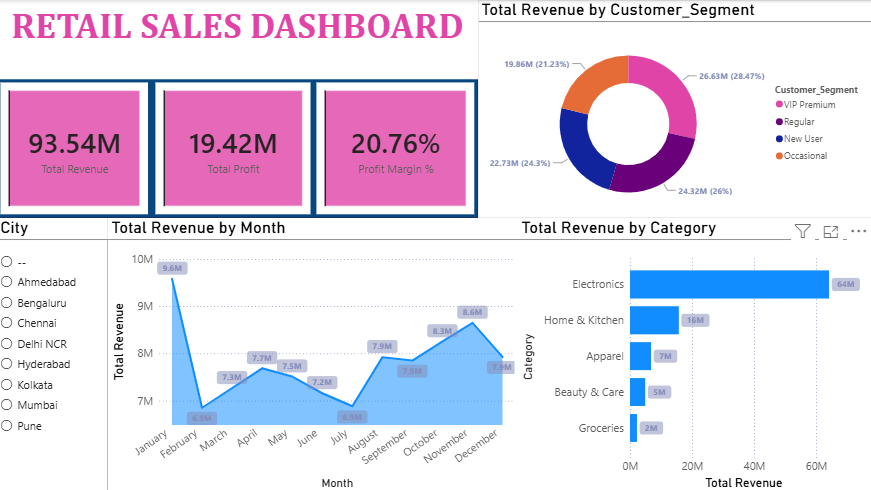

The page's visual inventory and layout, read from the dashboard file:
{"tool":"powerbi","page":{"name":"Page 1","canvas":[1280,720],"ordinal":0},"visuals":[{"type":"cardVisual","fields":{"Data":["Retail_Sales.Total Revenue"]},"box":[0,115.6,226.8,203.4],"z":0},{"type":"cardVisual","fields":{"Data":["Retail_Sales.Total Profit"]},"box":[226.8,115.6,237.1,203.4],"z":1},{"type":"cardVisual","fields":{"Data":["Retail_Sales.Profit Margin %"]},"box":[462.4,115.6,241.5,203.4],"z":2},{"type":"clusteredBarChart","fields":{"Y":["Retail_Sales.Total Revenue"],"Category":["Retail_Sales.Category"]},"box":[762.4,319,518,401],"z":4},{"type":"listSlicer","fields":{"Values":["Retail_Sales.City"]},"box":[0,319,162.4,401],"z":5},{"type":"lineChart","fields":{"Category":["Retail_Sales.Order_Date.Variation.Date Hierarchy.Year","Retail_Sales.Order_Date.Variation.Date Hierarchy.Quarter","Retail_Sales.Order_Date.Variation.Date Hierarchy.Month","Retail_Sales.Order_Date.Variation.Date Hierarchy.Day"],"Y":["Retail_Sales.Total Revenue"]},"box":[162.4,319,600,401],"z":6},{"type":"donutChart","fields":{"Category":["Retail_Sales.Customer_Segment"],"Y":["Retail_Sales.Total Revenue"]},"box":[703.9,0,576.6,319],"z":7},{"type":"textbox","box":[0,0,703.9,115.6],"z":8}]}

Visuals, with their boxes in screenshot pixels (x1, y1, x2, y2), scaled from the page's 1280x720 canvas onto the 871x490 screenshot:
cardVisual - Retail_Sales.Total Revenue: rect(0, 79, 154, 217)
cardVisual - Retail_Sales.Total Profit: rect(154, 79, 316, 217)
cardVisual - Retail_Sales.Profit Margin %: rect(315, 79, 479, 217)
clusteredBarChart - Retail_Sales.Total Revenue x Retail_Sales.Category: rect(519, 217, 870, 489)
listSlicer - Retail_Sales.City: rect(0, 217, 111, 489)
lineChart - Retail_Sales.Order_Date.Variation.Date Hierarchy.Year x Retail_Sales.Order_Date.Variation.Date Hierarchy.Quarter: rect(111, 217, 519, 489)
donutChart - Retail_Sales.Customer_Segment x Retail_Sales.Total Revenue: rect(479, 0, 870, 217)
textbox: rect(0, 0, 479, 79)
